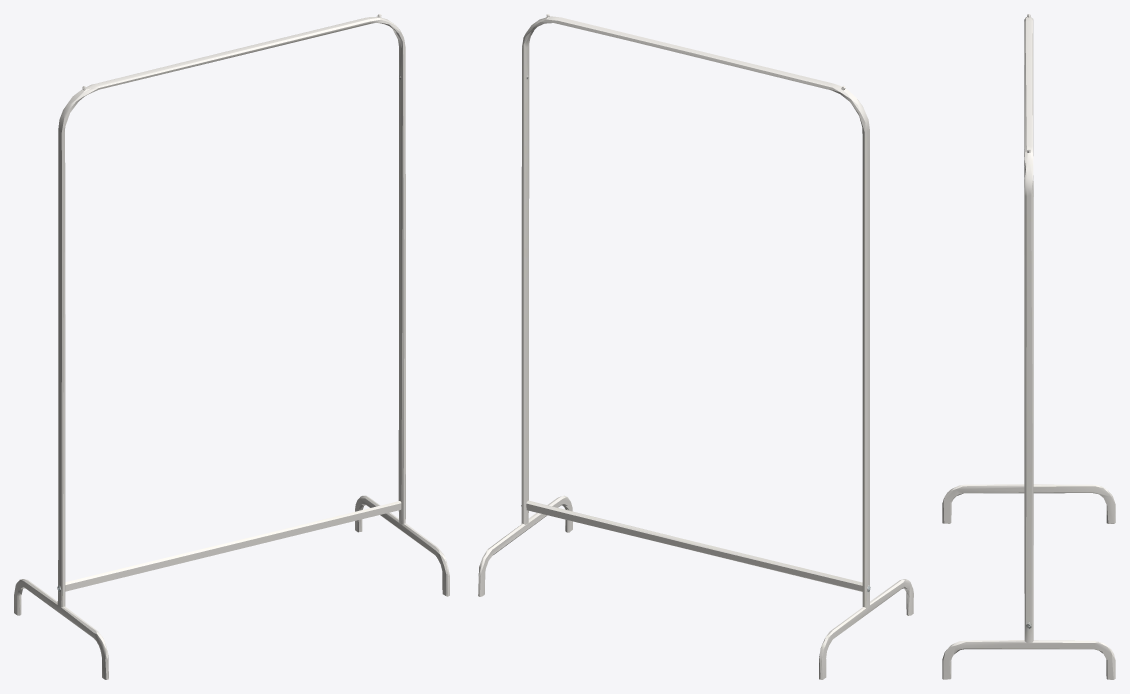
File: 01 - MULIG - 吊衣桿, 白色, 99x152 公分 IKEA 線上購物.glb
The picture shows the model from 3 angles, left to right: view 1: azimuth 30°, elevation 25°; view 2: azimuth 150°, elevation 25°; view 3: azimuth 270°, elevation 25°; orthographic projection. The views are drawn at different scales.
Visible parts, largest first — view 1: ProcessedMeshNode; view 2: ProcessedMeshNode; view 3: ProcessedMeshNode.
Boxes of the visible parts, bbox=[...] form: ProcessedMeshNode: bbox=[14, 14, 449, 679]; ProcessedMeshNode: bbox=[478, 14, 913, 679]; ProcessedMeshNode: bbox=[942, 14, 1115, 679].
Size of the model in its own units: 0.9955 by 1.52 by 0.4602.
Materials: 1 (1 with a texture image).
